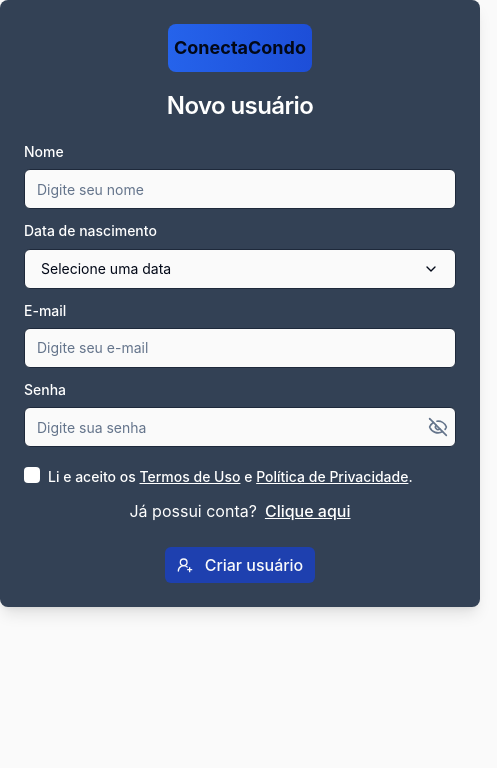
Test case: Sign Up Page › it should raise error message below each input
Click the button "Criar usuário" at (240, 565), box [165,547,315,583]
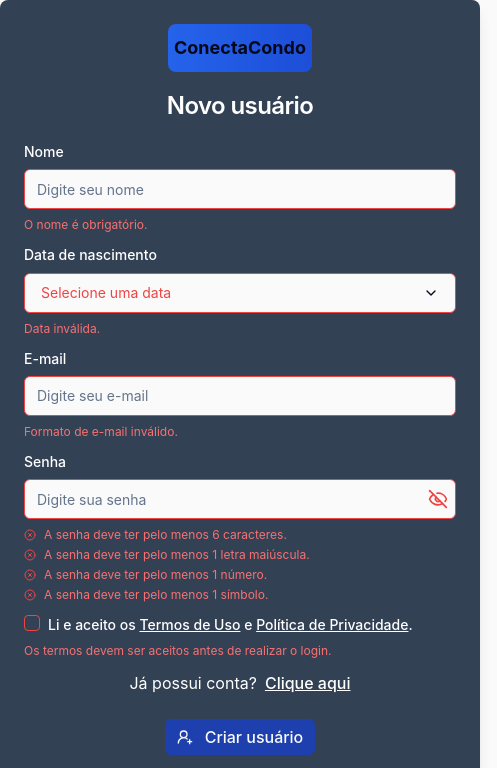
Expected: the text "O nome é obrigatório." is shown, [24,217,148,232]
Expected: the text "Formato de e-mail inválido." is shown, [24,424,178,439]
Expected: the text "Os termos devem ser aceitos antes de realizar o login." is shown, [24,643,332,658]
